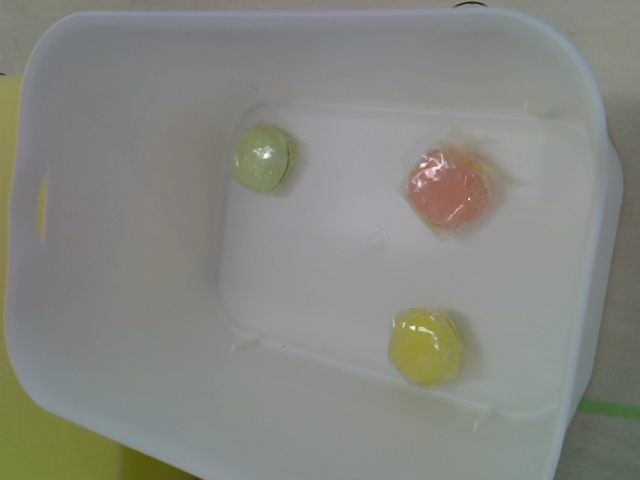씨앗: (408, 146, 491, 232), (386, 308, 468, 389), (229, 125, 298, 196)
